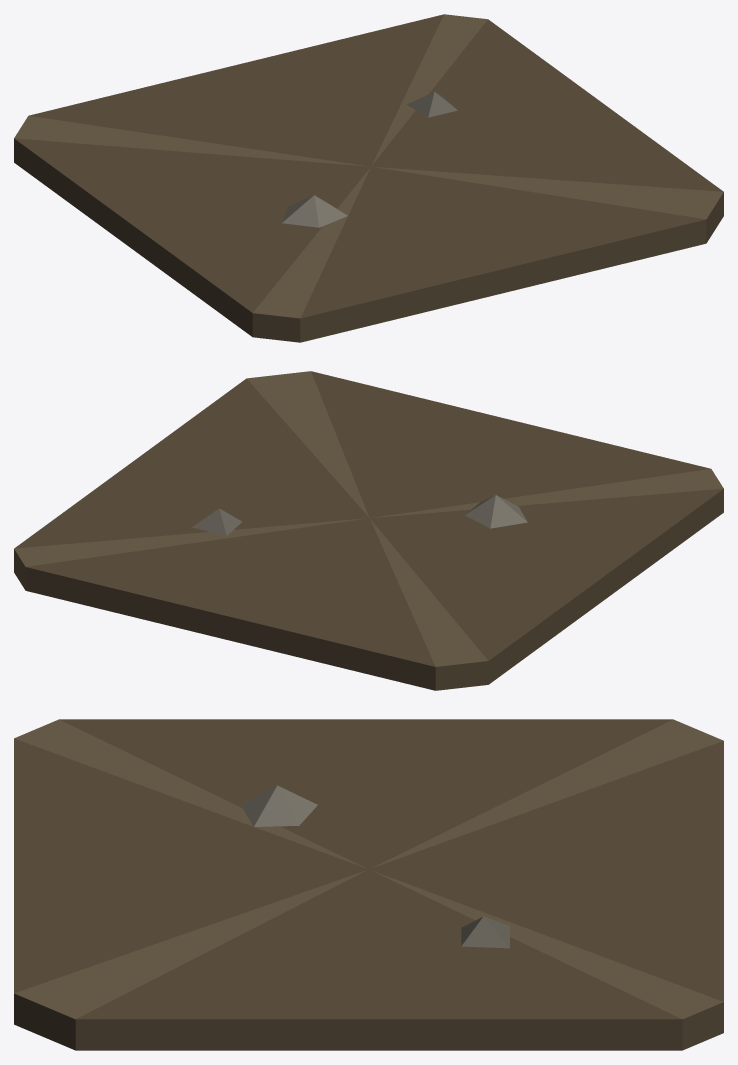
File: f_path_core.glb
3 views of the same model, one above another, from view 1: azimuth 30°, elevation 25°; view 2: azimuth 150°, elevation 25°; view 3: azimuth 270°, elevation 25° (orthographic). The views are drawn at different scales.
Parts seen in each view (by area): view 1: f_path_core; view 2: f_path_core; view 3: f_path_core.
Boxes of the visible parts, x1,y1,x2,y2 form: f_path_core: (14, 14, 723, 342); f_path_core: (14, 371, 723, 690); f_path_core: (14, 719, 723, 1050).
Bounding box in the file's own units: 0.62 × 0.055 × 0.62.
